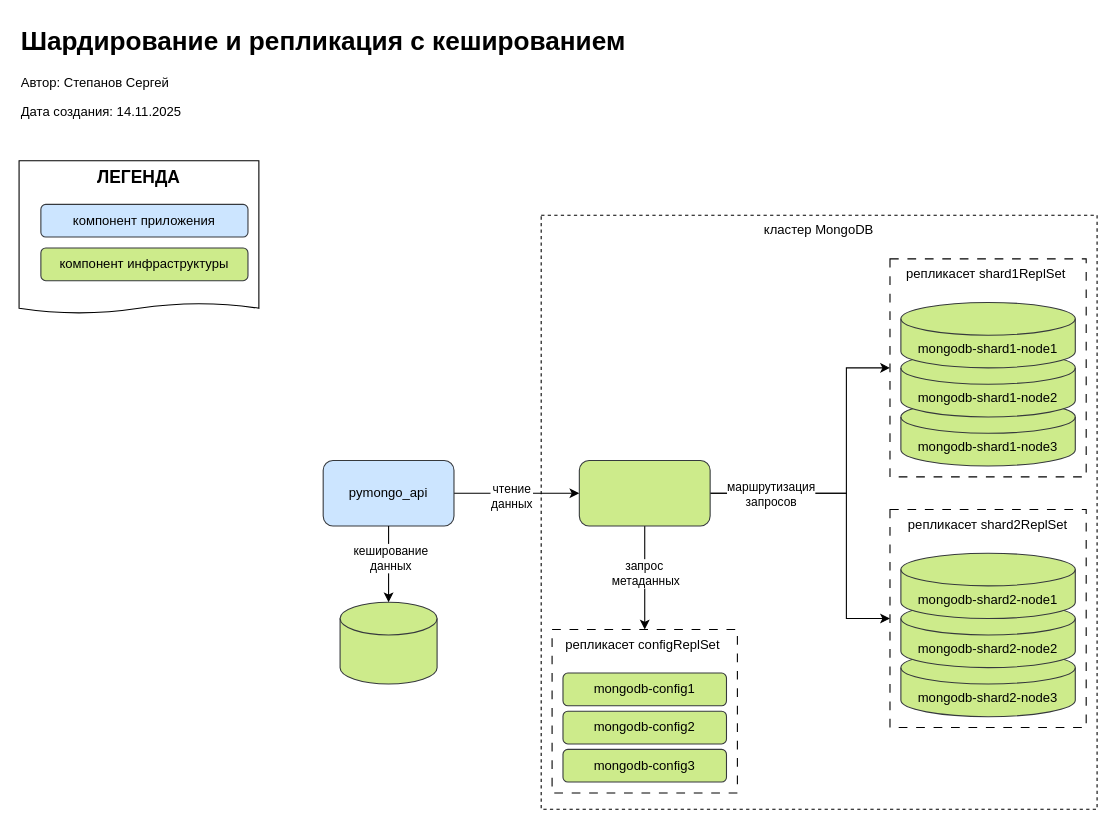
The diagram is 1116 pixels wide and 828 high, and some of its shapes have lost their labels. Here are the shapes that lost their labels. From the top down, the centre of each, then its label:
At (644,492): "mongos".
At (388,642): "redis".
